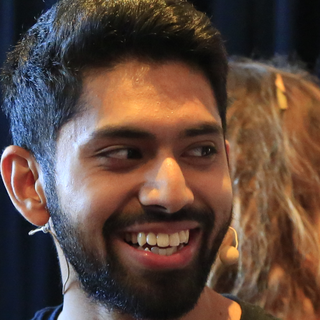eye: (88, 138, 148, 169), (175, 138, 219, 165)
